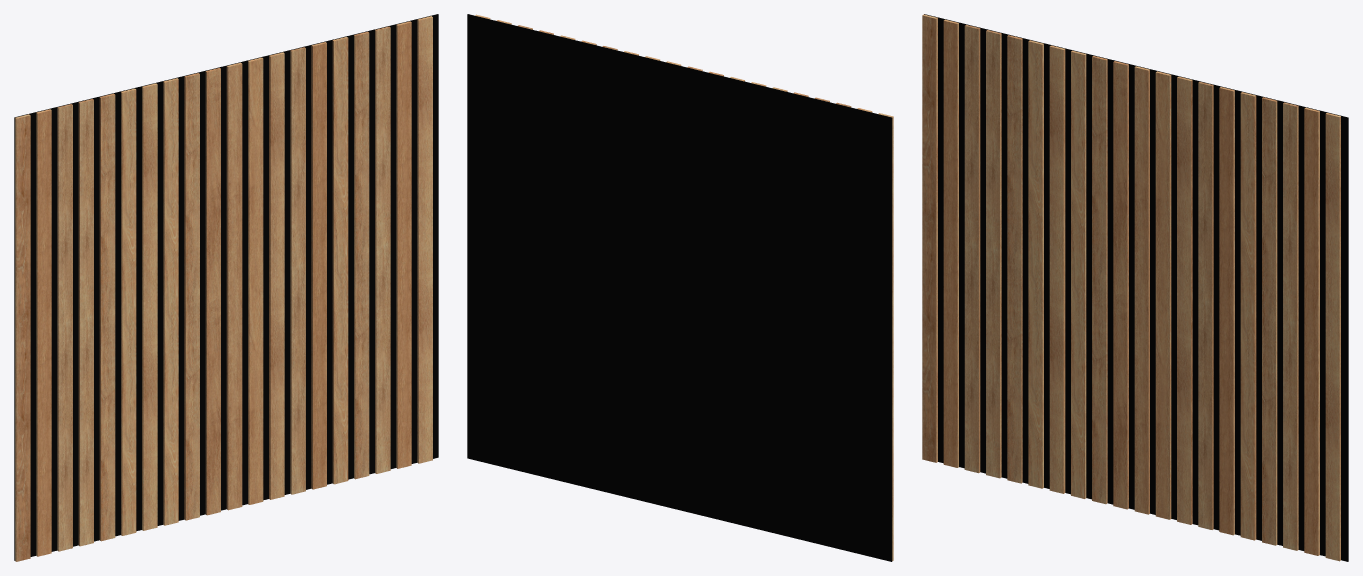
3 views of the same model, side by side, from view 1: azimuth 30°, elevation 25°; view 2: azimuth 150°, elevation 25°; view 3: azimuth 330°, elevation 25° (orthographic).
Visible parts, largest first — view 1: Acoustic wood_block; view 2: Acoustic wood_block; view 3: Acoustic wood_block.
Part boxes in pixels (left/top/right/bottom): Acoustic wood_block: left=14, top=14, right=438, bottom=561; Acoustic wood_block: left=467, top=14, right=893, bottom=561; Acoustic wood_block: left=922, top=14, right=1348, bottom=561.
Size of the model in its own units: 2 by 2 by 0.016.
Materials: 3 (2 with a texture image).
